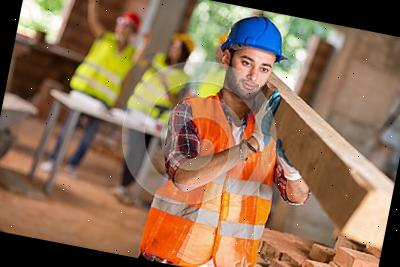helmet: (219, 10, 294, 60)
wear: (144, 96, 287, 267)
